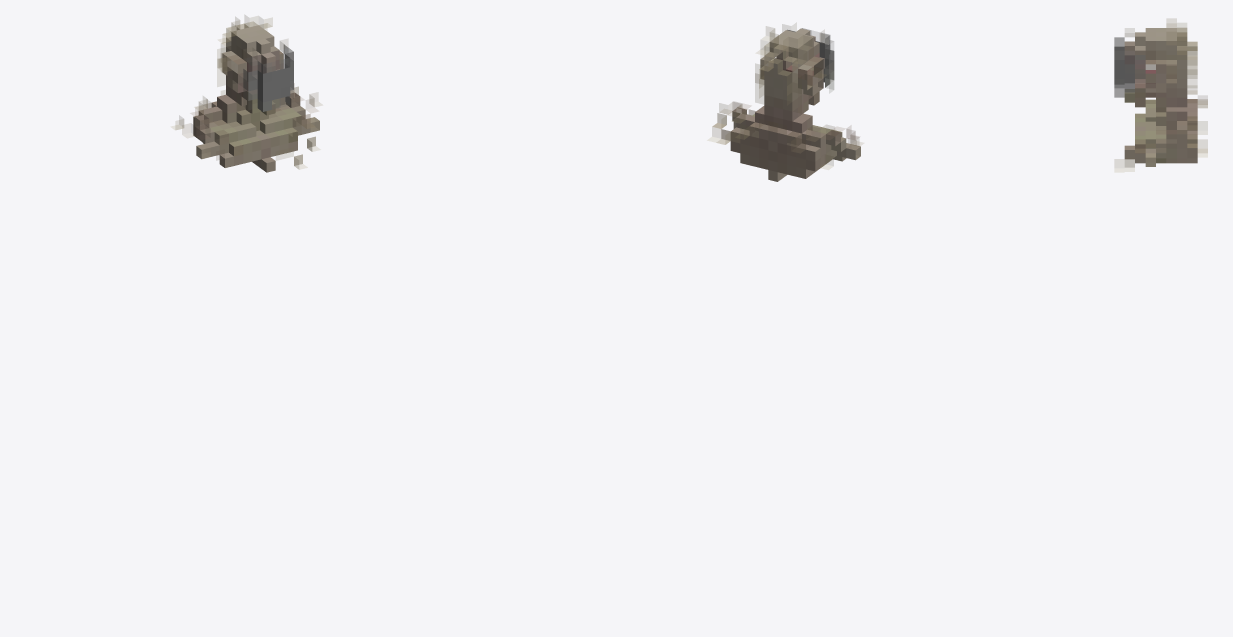
File: zombie_hazmat.voxel.glb
3 renders of one model, left to right at view 1: azimuth 30°, elevation 25°; view 2: azimuth 150°, elevation 25°; view 3: azimuth 270°, elevation 25°, orthographic. The views are drawn at different scales.
Parts seen in each view (by area): view 1: Voxelized; view 2: Voxelized; view 3: Voxelized.
Part boxes in pixels (left/top/right/bottom): Voxelized: left=171, top=15, right=321, bottom=172; Voxelized: left=707, top=23, right=863, bottom=181; Voxelized: left=1114, top=19, right=1207, bottom=171.
Bounding box in the file's own units: 1.66 × 1.78 × 0.3758.
